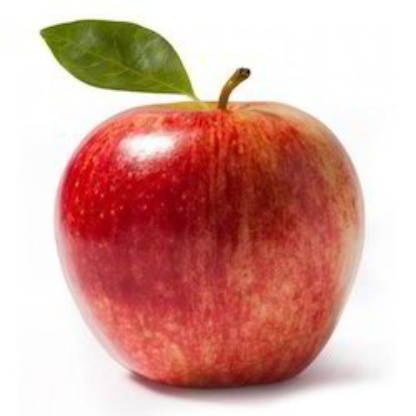tao: (55, 97, 365, 384)
